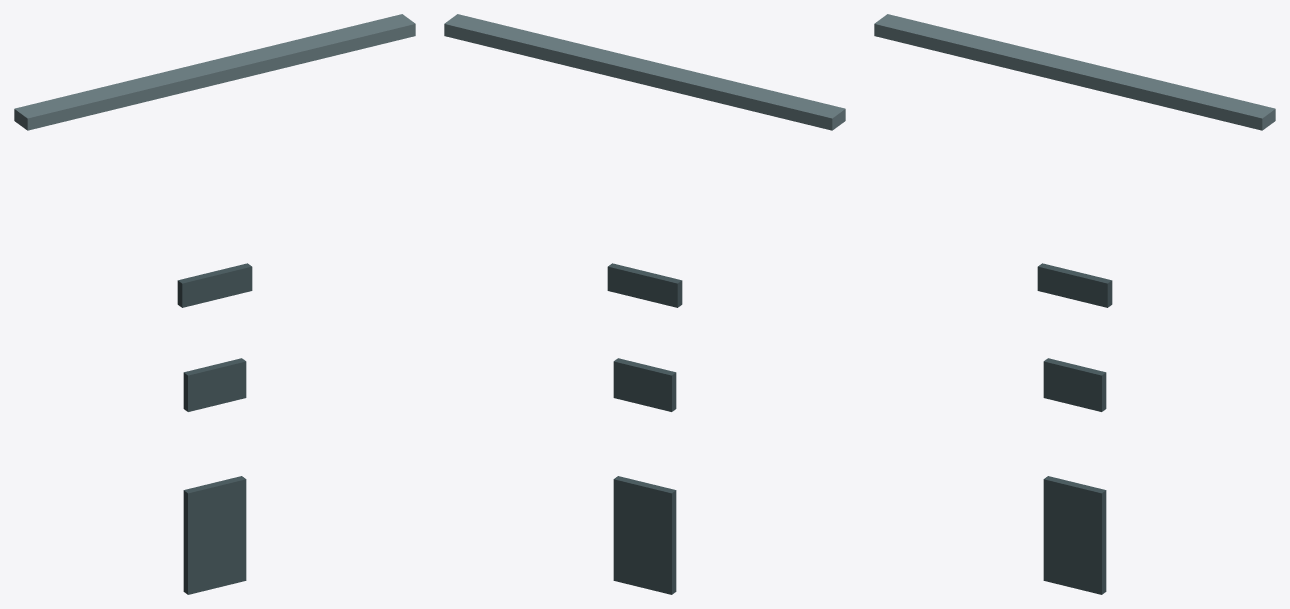
The model's file is K-01_accessories.glb.
3 renders of one model, left to right at view 1: azimuth 30°, elevation 25°; view 2: azimuth 150°, elevation 25°; view 3: azimuth 330°, elevation 25°, orthographic.
Visible parts, largest first — view 1: K01Coping, K01MaintenanceCover, K01FloorSign, K01ExitSign; view 2: K01Coping, K01MaintenanceCover, K01FloorSign, K01ExitSign; view 3: K01Coping, K01MaintenanceCover, K01FloorSign, K01ExitSign.
Part boxes in pixels (x1=…): K01Coping: x1=14, y1=14, x2=415, y2=130; K01MaintenanceCover: x1=183, y1=476, x2=246, y2=594; K01FloorSign: x1=183, y1=358, x2=246, y2=411; K01ExitSign: x1=177, y1=263, x2=252, y2=307; K01Coping: x1=444, y1=14, x2=845, y2=130; K01MaintenanceCover: x1=613, y1=476, x2=676, y2=594; K01FloorSign: x1=613, y1=358, x2=676, y2=411; K01ExitSign: x1=607, y1=263, x2=682, y2=307; K01Coping: x1=874, y1=14, x2=1275, y2=130; K01MaintenanceCover: x1=1043, y1=476, x2=1106, y2=594; K01FloorSign: x1=1043, y1=358, x2=1106, y2=411; K01ExitSign: x1=1037, y1=263, x2=1112, y2=307.
Size of the model in its own units: 2 by 2.56 by 0.12.
